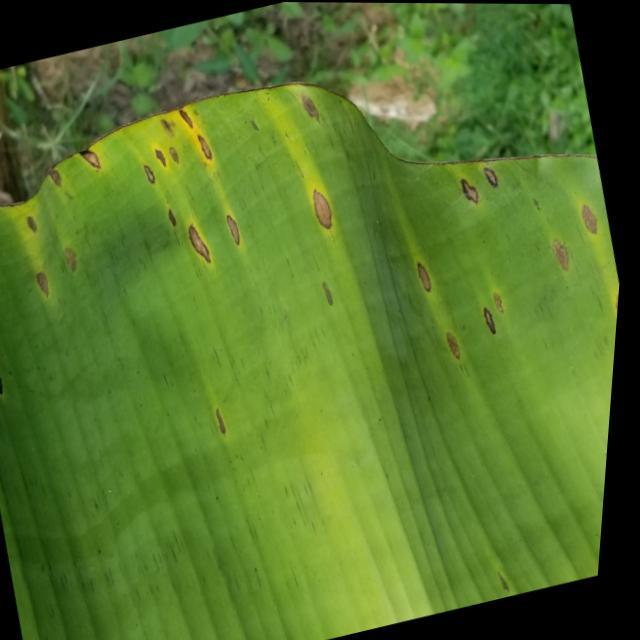Early_rust: (0, 61, 621, 447)
